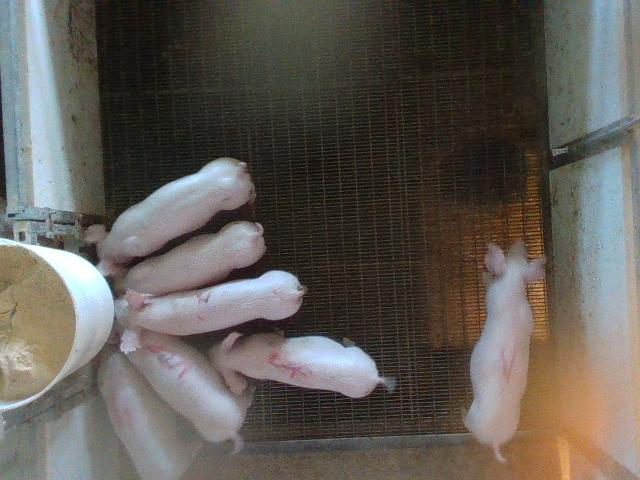pig-3: (120, 330, 252, 451)
pig-4: (99, 345, 202, 479)
pig-5: (209, 332, 395, 398)
